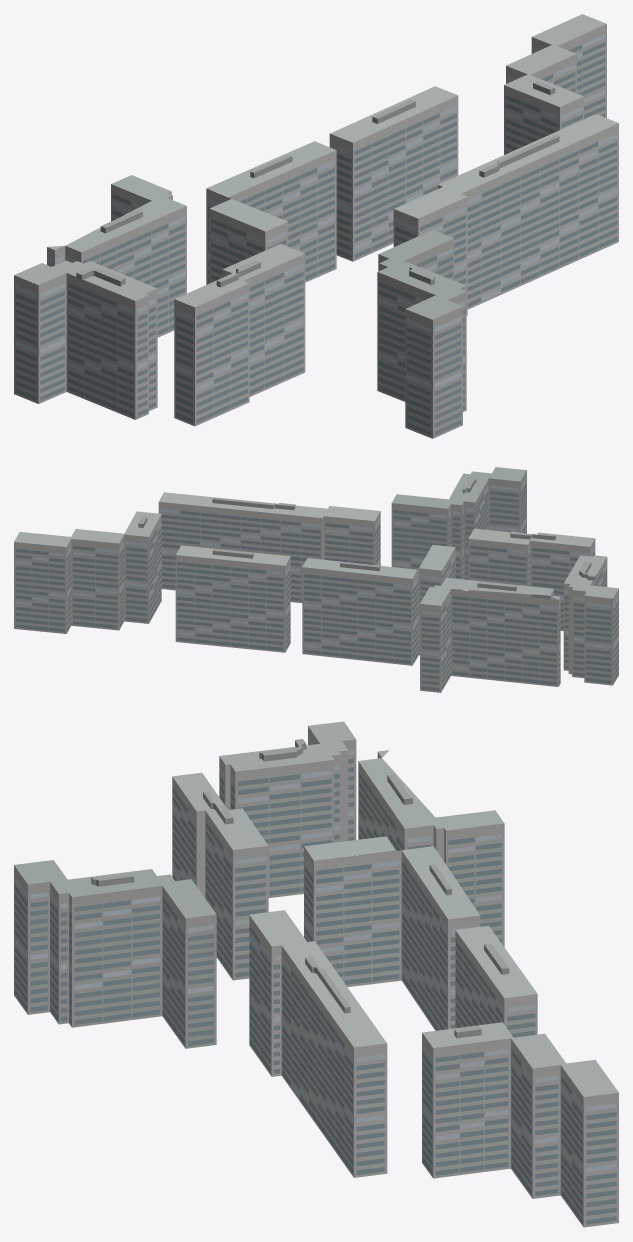
Rendered from apt-a12181406.glb.
3 views of the same model, one above another, from view 1: azimuth 30°, elevation 25°; view 2: azimuth 150°, elevation 25°; view 3: azimuth 270°, elevation 25° (orthographic). The views are drawn at different scales.
Parts seen in each view (by area): view 1: apt-a12181406; view 2: apt-a12181406; view 3: apt-a12181406.
Boxes of the visible parts, bbox=[...] form: apt-a12181406: bbox=[14, 14, 618, 438]; apt-a12181406: bbox=[14, 467, 618, 692]; apt-a12181406: bbox=[14, 721, 618, 1227].
Size of the model in its own units: 283 by 47.81 by 192.
